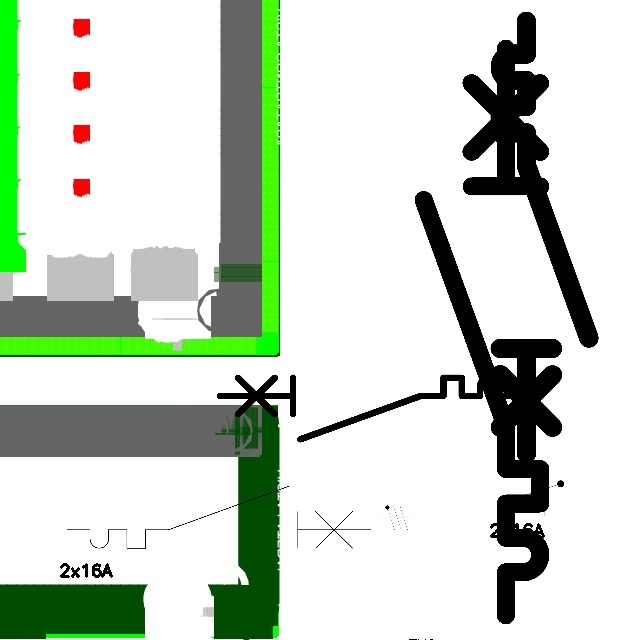interruptor_termomagnetico: (409, 34, 555, 630), (489, 10, 600, 465), (59, 478, 378, 556), (212, 370, 529, 447)
